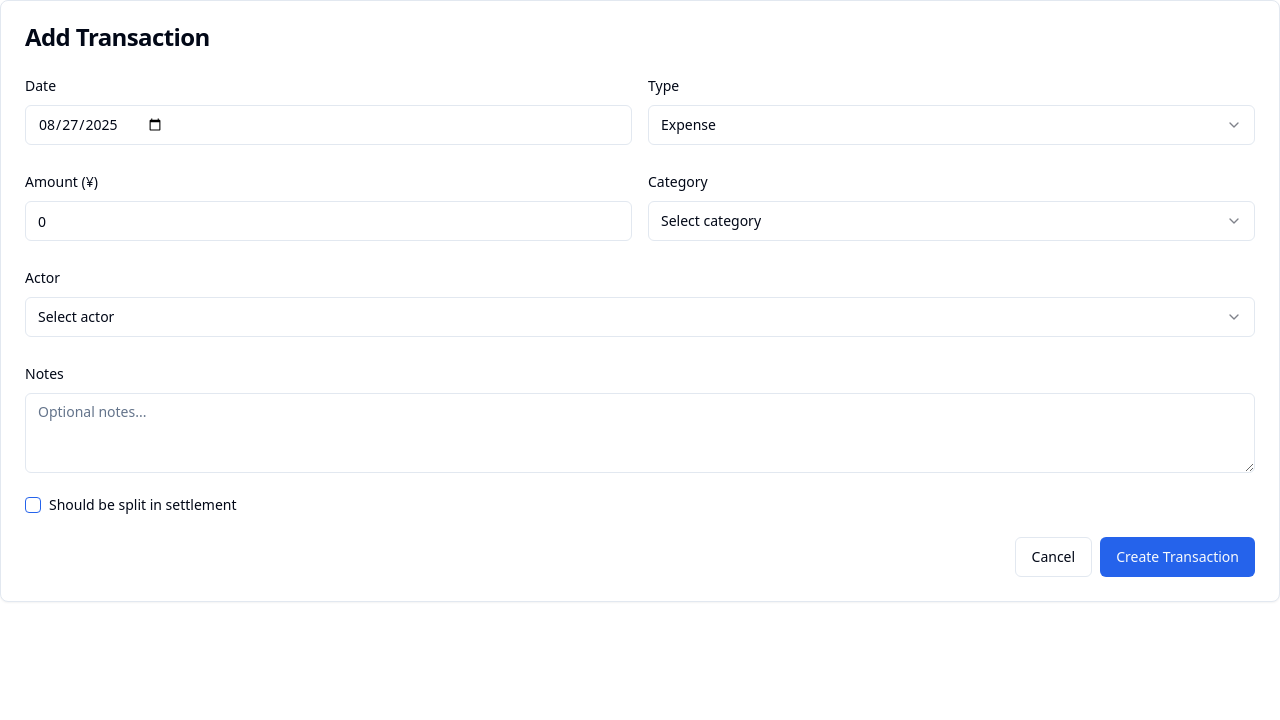
TransactionForm › Form validation › should show validation errors for required fields
// Try to submit without filling required fields
Click the button "Create Transaction" at (1178, 557), box x1=1100 y1=537 x2=1255 y2=577
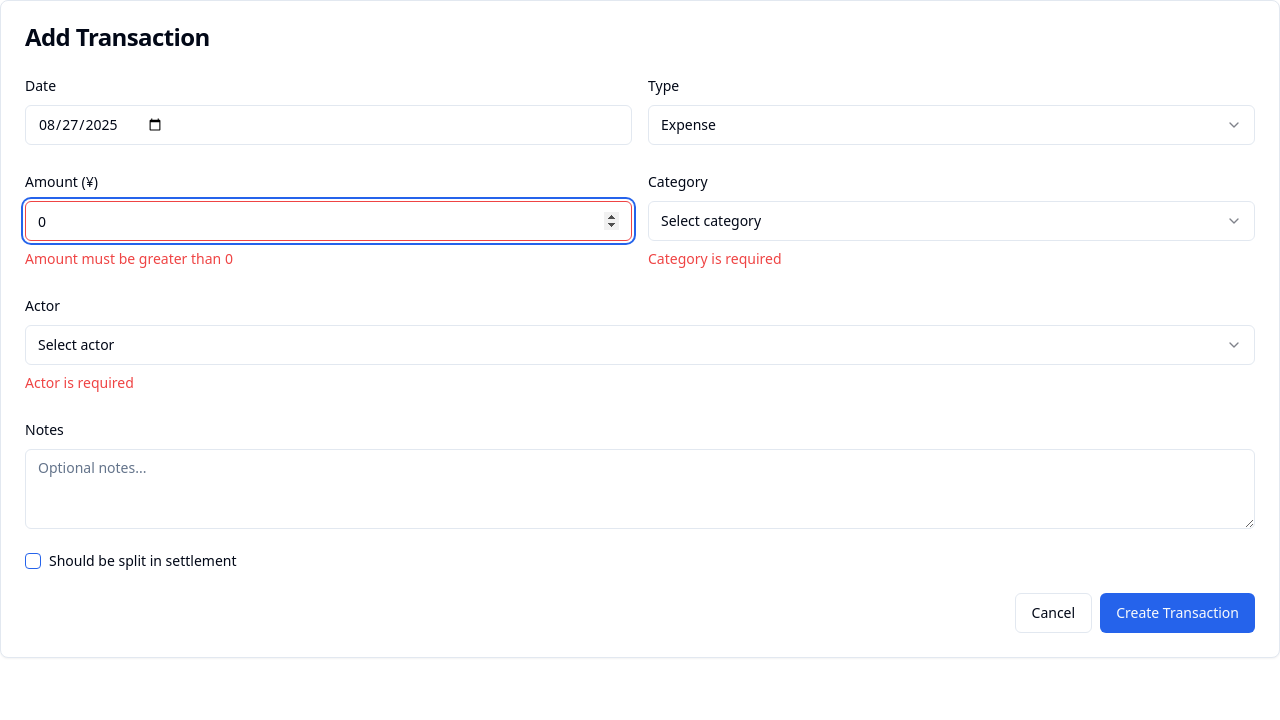
Expected: the text "Amount must be greater than 0" is shown, x1=25 y1=249 x2=233 y2=268
Expected: the text "Category is required" is shown, x1=648 y1=249 x2=782 y2=268
Expected: the text "Actor is required" is shown, x1=25 y1=373 x2=134 y2=392
